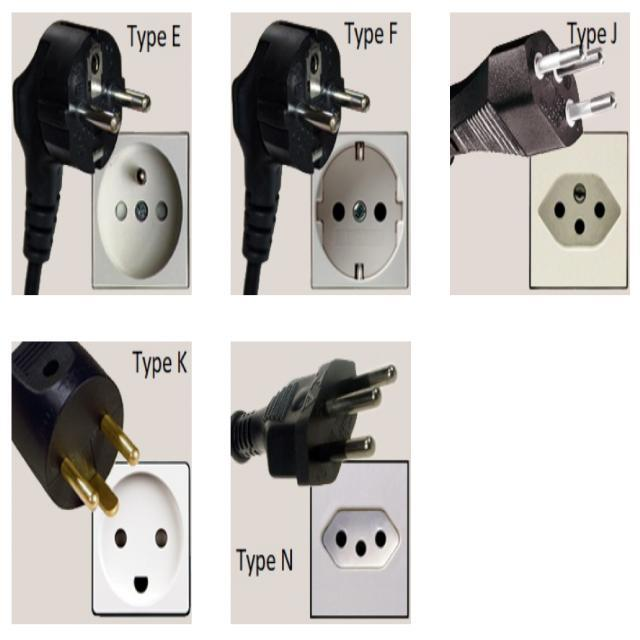typeb: (306, 122, 412, 304)
